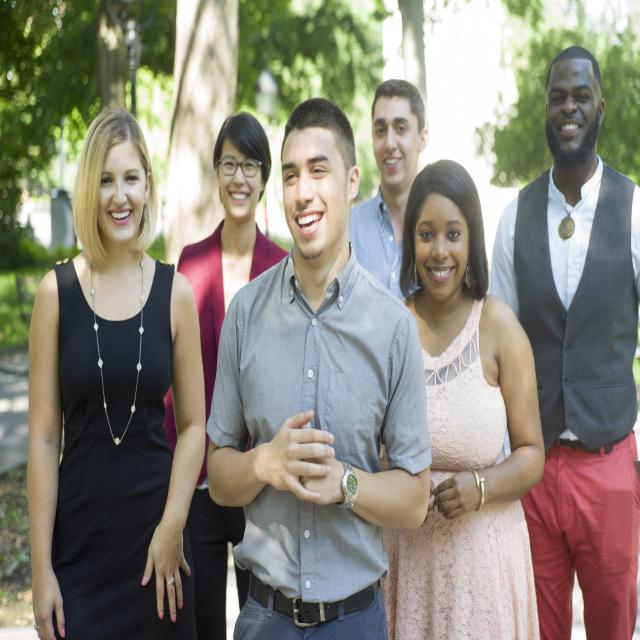body: (204, 89, 438, 640), (22, 102, 217, 640), (346, 156, 552, 640), (486, 44, 640, 638), (163, 106, 293, 640), (343, 78, 449, 300)
